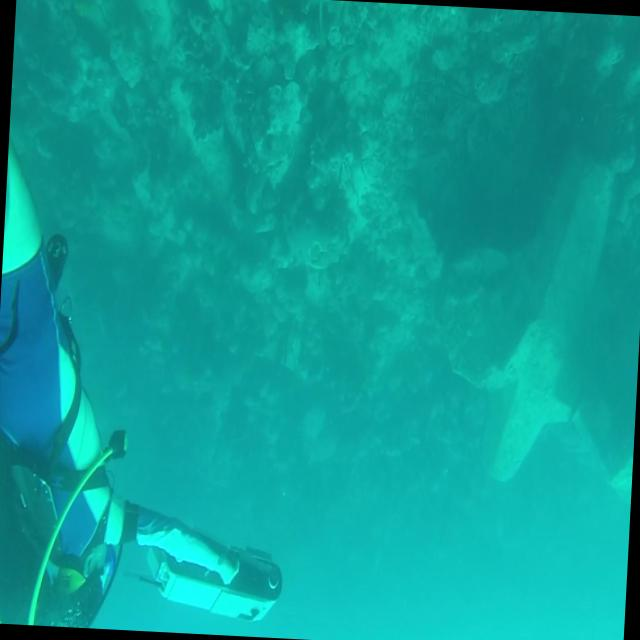human: (0, 96, 301, 638)
